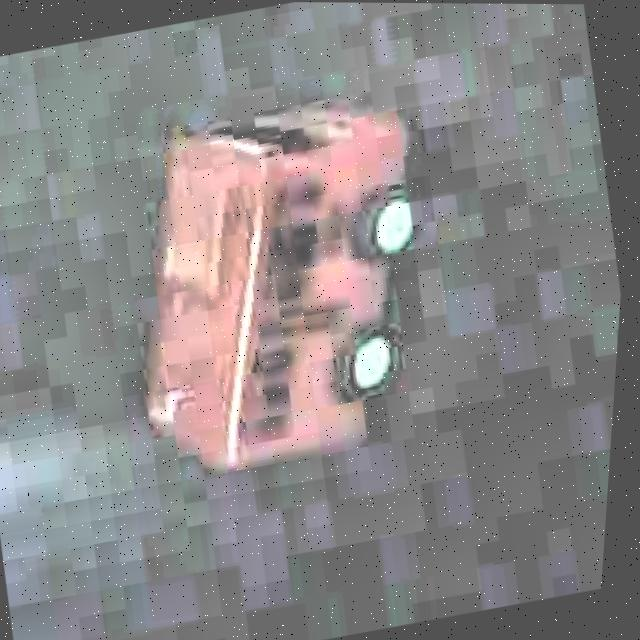bus: (80, 75, 479, 492)
